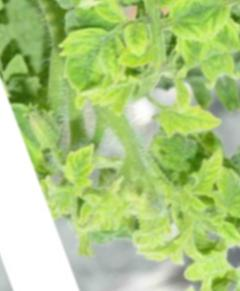Tomato leaf yellow virus: (51, 16, 133, 109), (141, 88, 227, 154), (152, 0, 209, 55), (180, 146, 234, 202), (58, 136, 106, 195), (223, 179, 240, 242)
